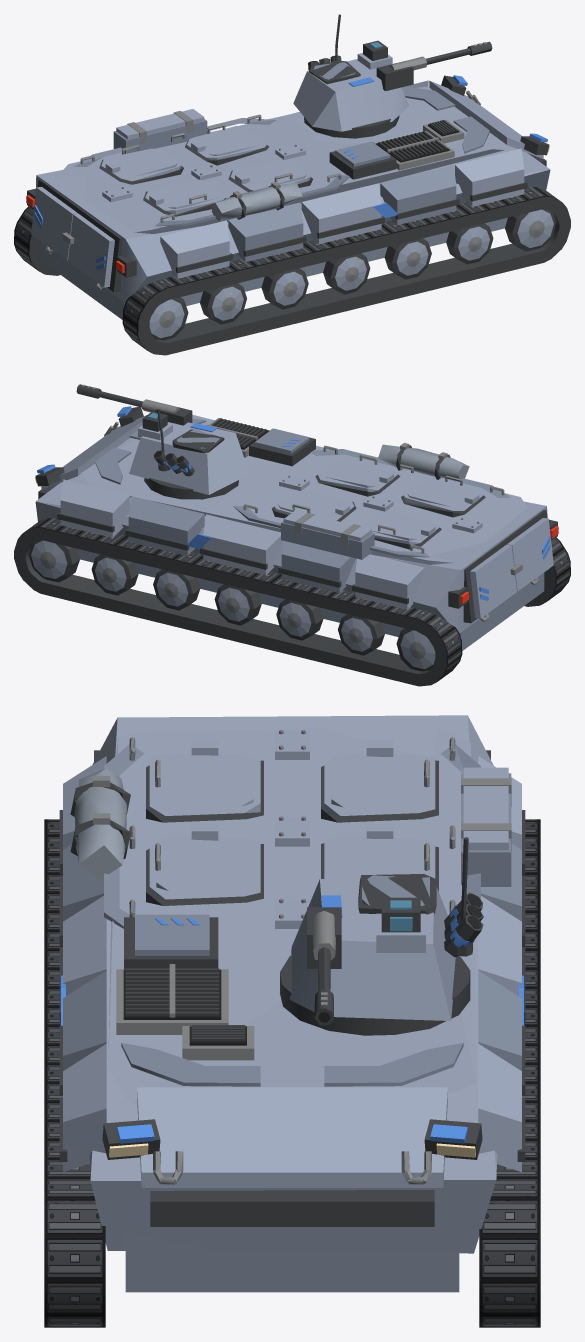
Rendered from ifv.glb.
The picture shows the model from 3 angles, top to bottom: view 1: azimuth 30°, elevation 25°; view 2: azimuth 150°, elevation 25°; view 3: azimuth 270°, elevation 25°; orthographic projection. The views are drawn at different scales.
Parts seen in each view (by area): view 1: Hull, TrackR, Turret, WheelT7, Gun, WheelT12, WheelT9, WheelT10, WheelT11, WheelT8, TrackL, WheelT13; view 2: Hull, TrackL, Turret, WheelT0, WheelT5, WheelT2, WheelT3, WheelT4, WheelT1, TrackR, WheelT6, Gun; view 3: Hull, Turret, TrackR, TrackL, Gun.
Boxes of the visible parts, x1,y1,x2,y2 form: Hull: (26,75,550,319); TrackR: (122,187,570,355); Turret: (293,14,408,138); WheelT7: (505,209,555,251); Gun: (376,41,492,91); WheelT12: (200,283,246,324); WheelT9: (384,238,431,279); WheelT10: (323,253,370,294); WheelT11: (261,268,308,309); WheelT8: (446,223,493,264); TrackL: (14,206,60,275); WheelT13: (149,297,188,340); Hull: (35,406,558,650); TrackL: (14,518,462,686); Turret: (129,409,249,499); WheelT0: (29,540,79,582); WheelT5: (338,614,384,655); WheelT2: (153,569,200,610); WheelT3: (214,584,261,625); WheelT4: (276,599,323,640); WheelT1: (91,554,138,595); TrackR: (524,537,570,606); WheelT6: (396,628,435,671); Gun: (76,384,192,425); Hull: (59,715,525,1292); Turret: (280,837,483,1035); TrackR: (44,819,105,1327); TrackL: (479,819,540,1327); Gun: (307,907,341,1025).
Bounding box in the file's own units: 7.79 × 3.27 × 3.76.
11 materials, 1 textured.
